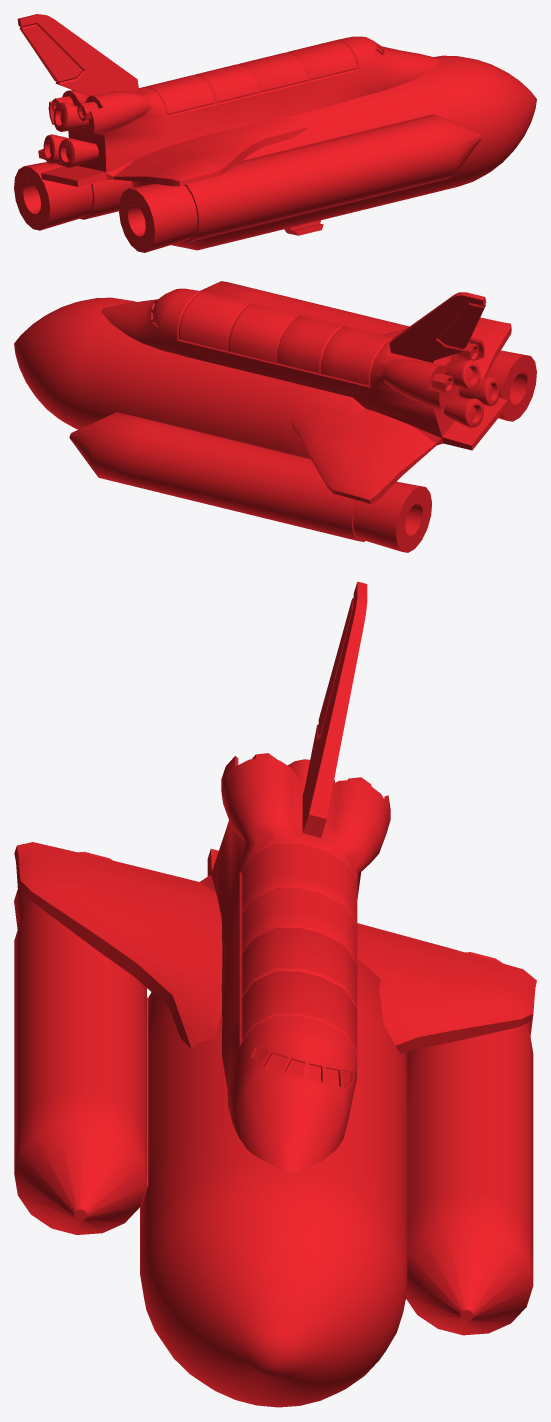
Rendered from rocket_red.glb.
3 renders of one model, top to bottom at view 1: azimuth 30°, elevation 25°; view 2: azimuth 150°, elevation 25°; view 3: azimuth 270°, elevation 25°, orthographic. The views are drawn at different scales.
Parts seen in each view (by area): view 1: node_id32, node_id30; view 2: node_id32, node_id30; view 3: node_id32, node_id30.
Boxes of the visible parts, x1,y1,x2,y2 form: node_id32: [14, 55, 536, 252]; node_id30: [17, 14, 442, 186]; node_id32: [14, 281, 536, 552]; node_id30: [102, 288, 511, 503]; node_id32: [14, 851, 533, 1407]; node_id30: [14, 581, 536, 1172].
Size of the model in its own units: 0.512 by 0.25 by 0.2548.
2 materials, 2 textured.
